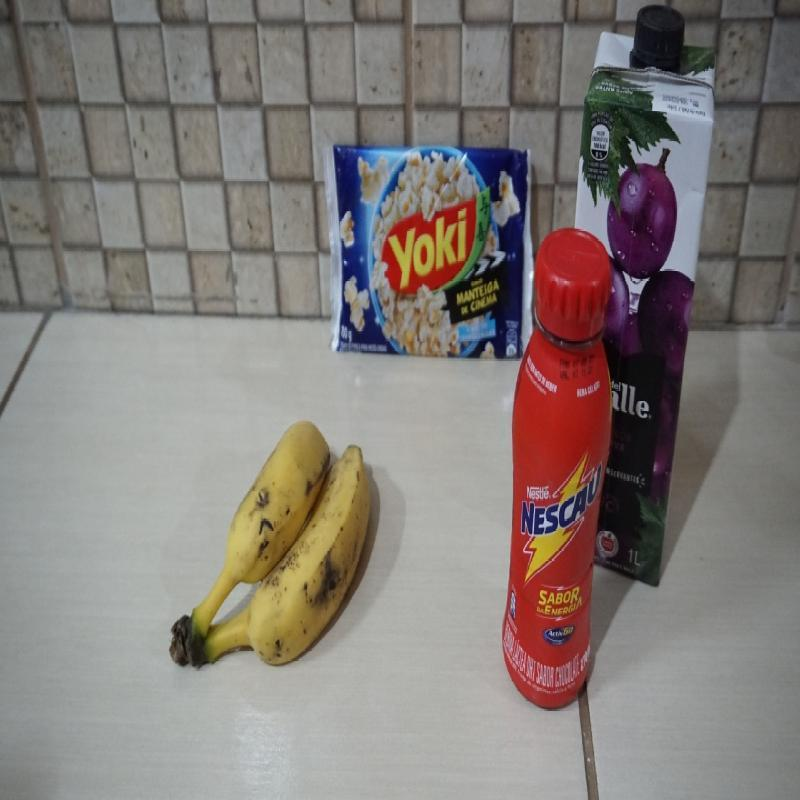Banana: (169, 419, 369, 668)
Chocolate Milk: (500, 230, 610, 708)
Popcorn: (328, 145, 534, 364)
